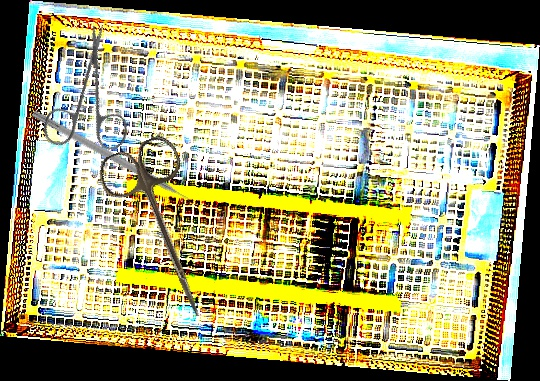Chopper: (26, 109, 200, 217)
Iris Scissors: (92, 131, 240, 331), (9, 21, 168, 179)
